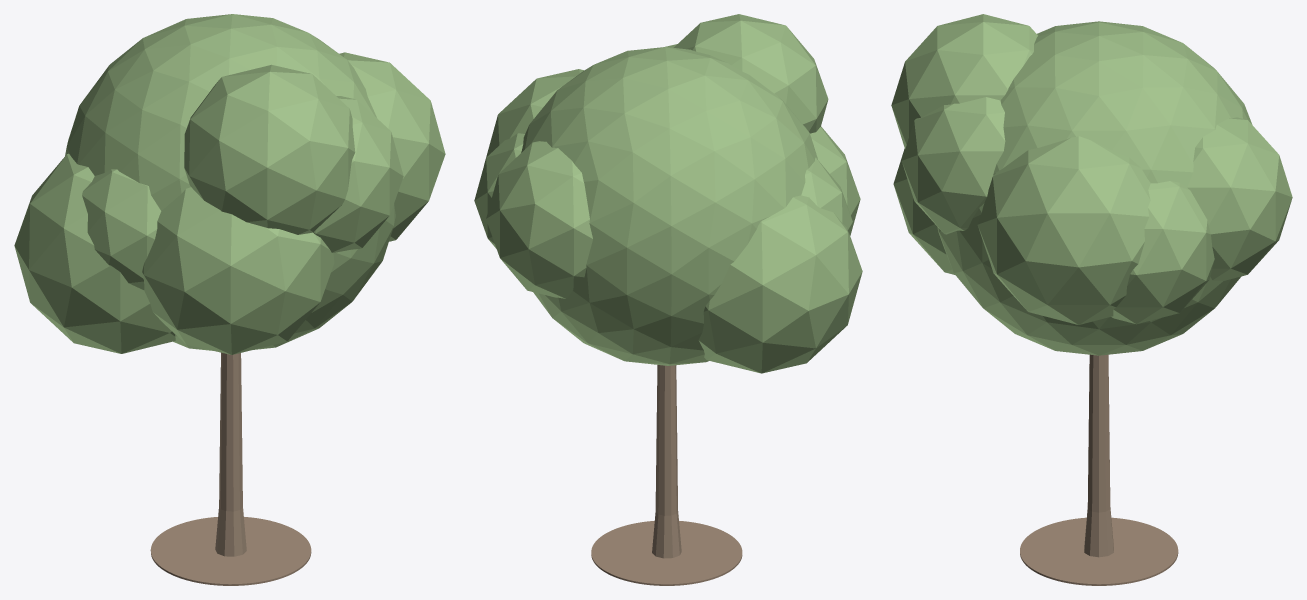
The model's file is tree.glb.
The picture shows the model from 3 angles, left to right: view 1: azimuth 30°, elevation 25°; view 2: azimuth 150°, elevation 25°; view 3: azimuth 270°, elevation 25°; orthographic projection. The views are drawn at different scales.
Visible parts, largest first — view 1: tree_leaf, tree_mulch, tree_bark; view 2: tree_leaf, tree_mulch, tree_bark; view 3: tree_leaf, tree_mulch, tree_bark.
Boxes of the visible parts, bbox=[...] form: tree_leaf: bbox=[14, 14, 445, 354]; tree_mulch: bbox=[150, 517, 311, 585]; tree_bark: bbox=[215, 352, 246, 556]; tree_leaf: bbox=[474, 14, 862, 373]; tree_mulch: bbox=[591, 521, 742, 585]; tree_bark: bbox=[652, 365, 681, 558]; tree_leaf: bbox=[891, 14, 1292, 355]; tree_mulch: bbox=[1020, 517, 1178, 585]; tree_bark: bbox=[1084, 354, 1113, 557].
Size of the model in its own units: 4.47 by 5.81 by 4.05.
